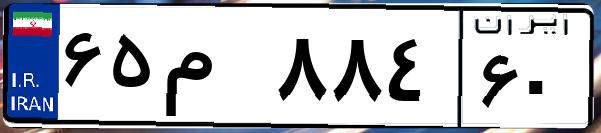0: (525, 38, 570, 115)
4: (385, 28, 445, 110)
5: (110, 28, 158, 98)
6: (57, 26, 110, 100), (475, 38, 525, 113)
8: (270, 28, 330, 110), (330, 28, 385, 110)
م: (158, 20, 270, 120)
